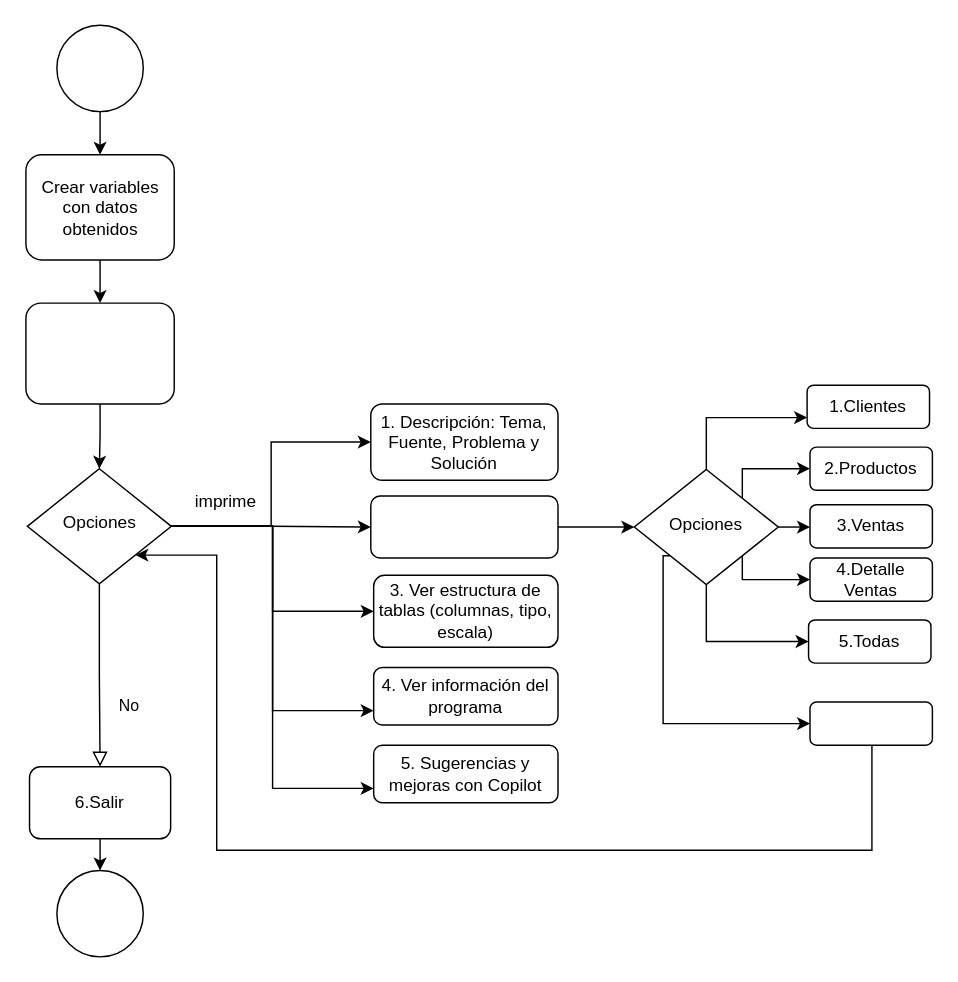
The diagram is 958 pixels wide and 982 high, and some of its shapes have lost their labels. Here are the shapes that lost their labels. From the top down, the box of each, then its label:
(55, 24, 143, 112): Inicio
(24, 302, 174, 404): Mostrar Menu Principal
(369, 495, 558, 558): 2. Ver tablas de referencia
(809, 701, 932, 745): 6.volver
(55, 869, 143, 957): Fin
